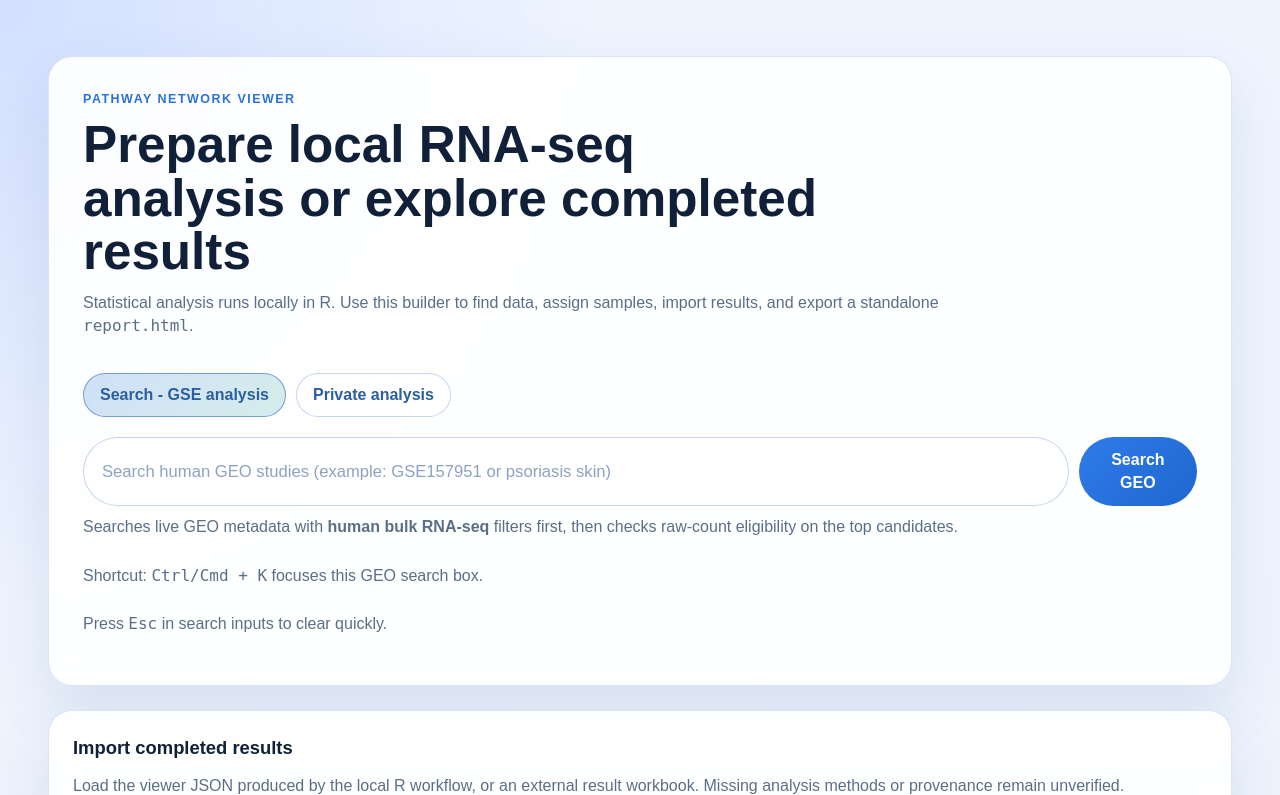
App GEO search interactions › runs GEO setup from an eligible card click
Step 1. Replace the text in the field with placeholder "Search human GEO studies" with "psoriasis" → (576, 472), box [83,437,1069,506]
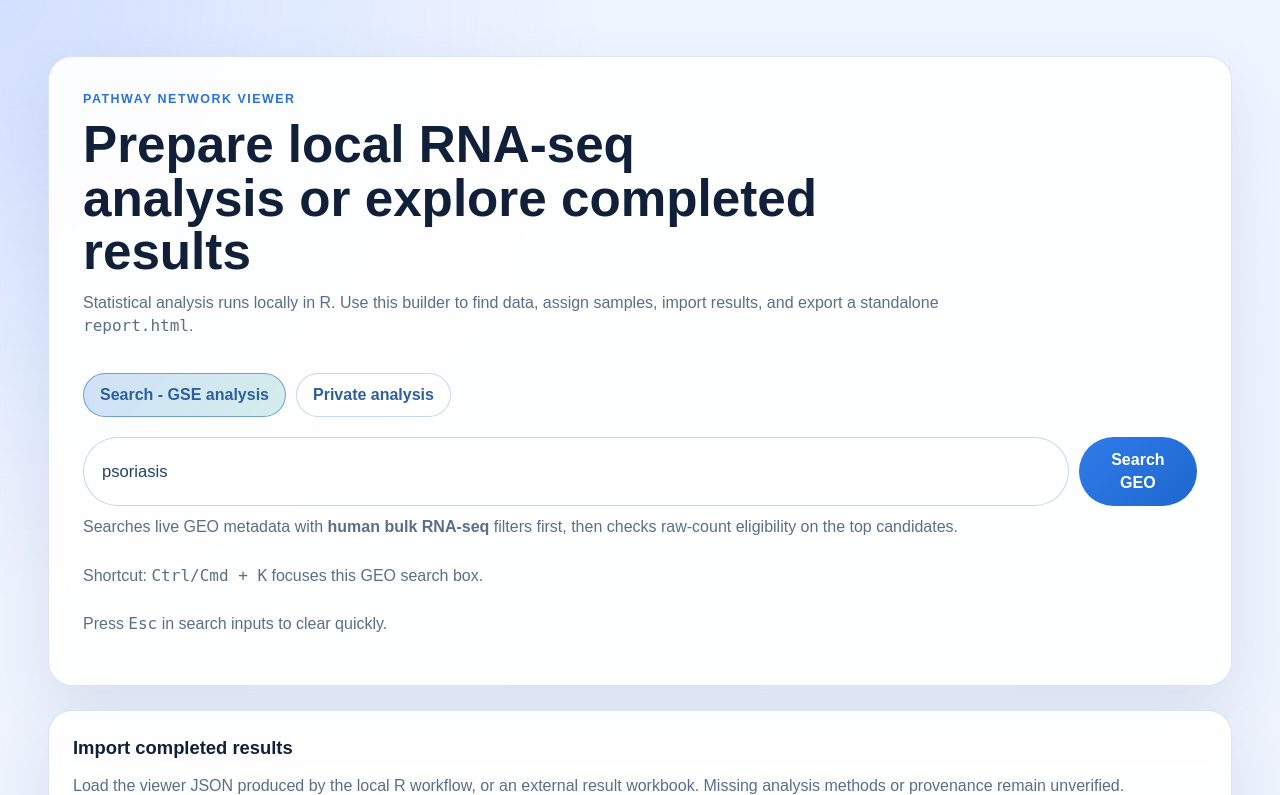
Step 2. Click the button "Search GEO" → (1138, 472), box [1079,437,1197,506]
(page scrolled)
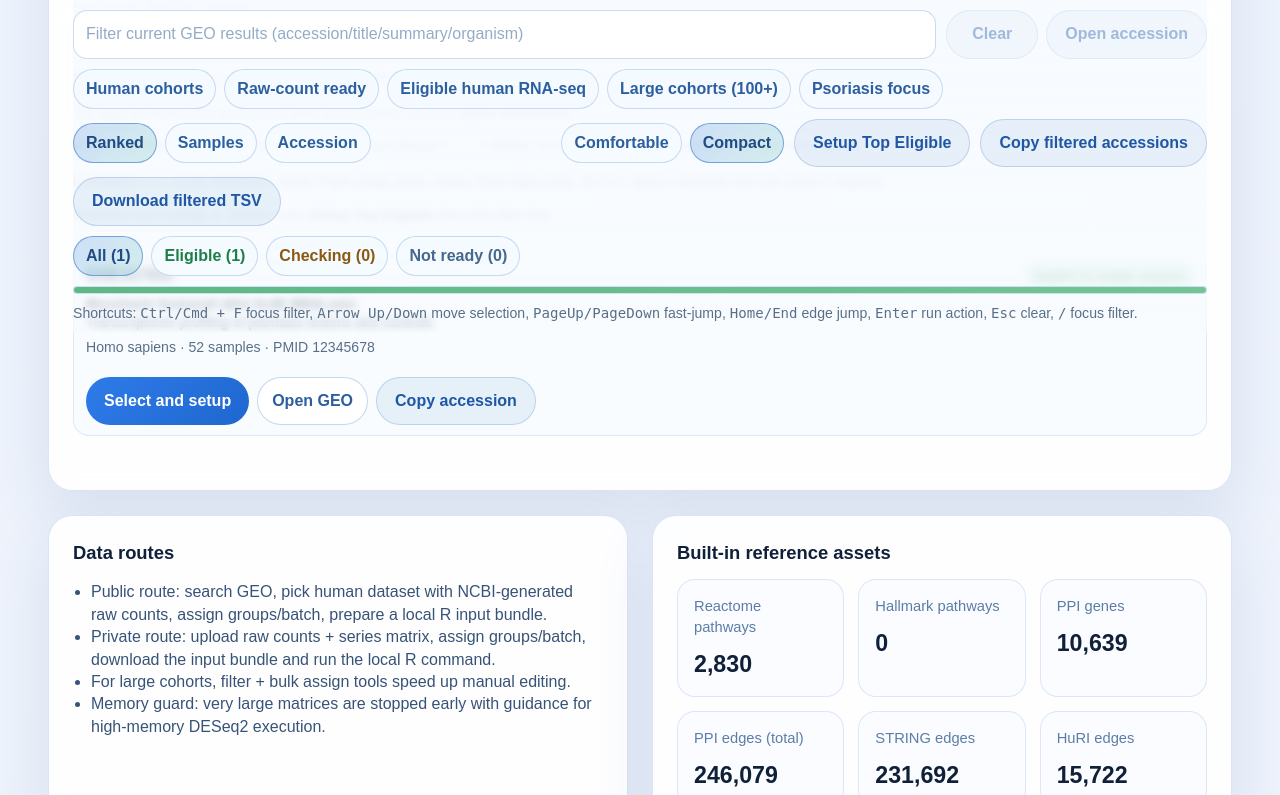
Now the text "Psoriasis lesional skin bulk RNA-seq" is shown, box [86,295,356,312]
Step 3. Click the button "Select and setup" → (168, 401), box [86,376,249,425]
(page scrolled)
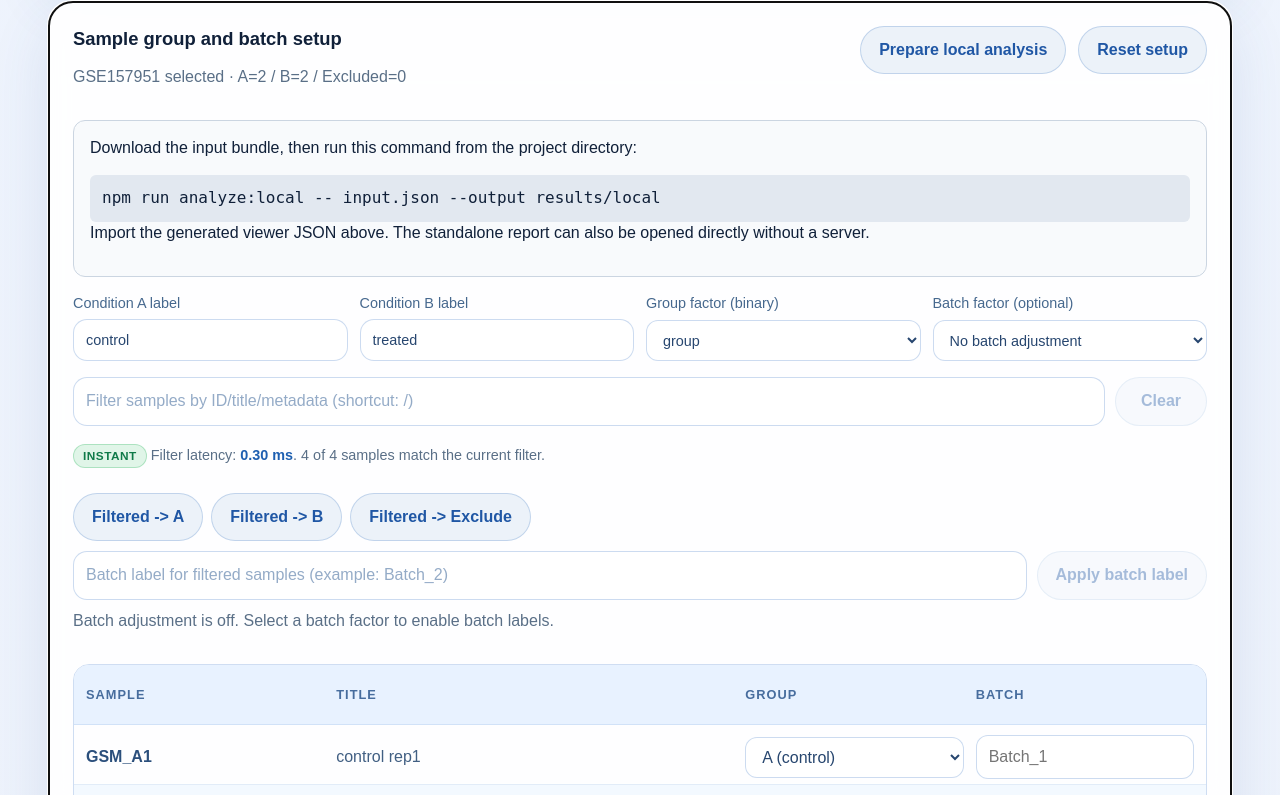
Now the heading "Sample group and batch setup" is shown, box [73,28,342,49]
